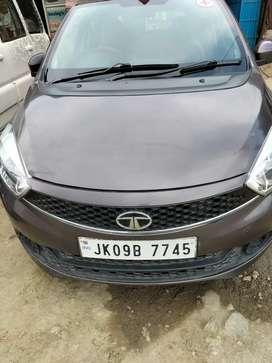JK09B7745: (79, 236, 196, 260)
